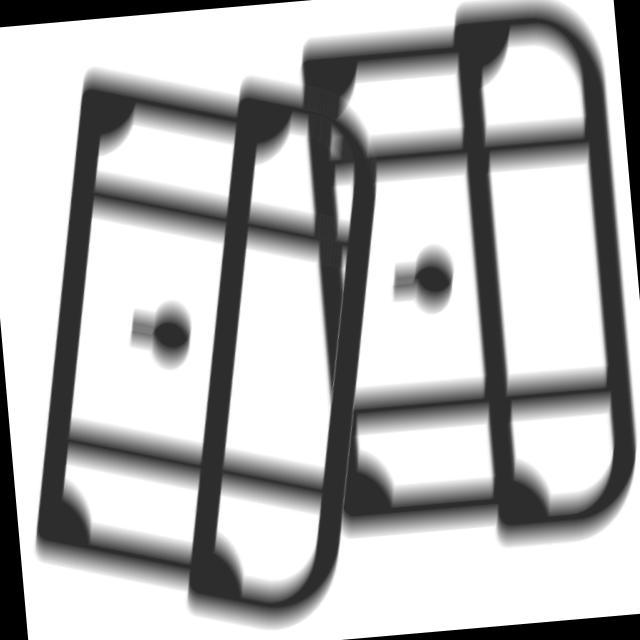treasure_box: (1, 33, 429, 640), (285, 1, 640, 575)
